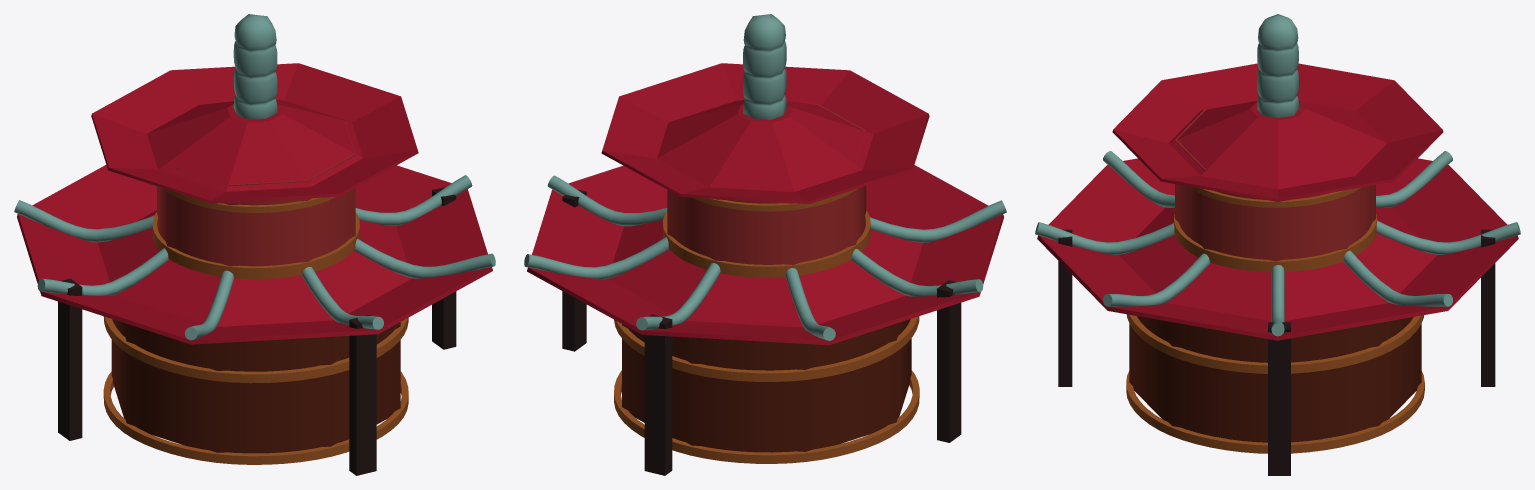
Rendered from chibuild.FBX.
The picture shows the model from 3 angles, left to right: view 1: azimuth 30°, elevation 25°; view 2: azimuth 150°, elevation 25°; view 3: azimuth 270°, elevation 25°; orthographic projection. The views are drawn at different scales.
Parts seen in each view (by area): view 1: Cylinder003; view 2: Cylinder003; view 3: Cylinder003.
Boxes of the visible parts, x1,y1,x2,y2 form: Cylinder003: (14,14,495,475); Cylinder003: (524,14,1006,475); Cylinder003: (1035,14,1520,475).
Bounding box in the file's own units: 113 × 96.14 × 113.
